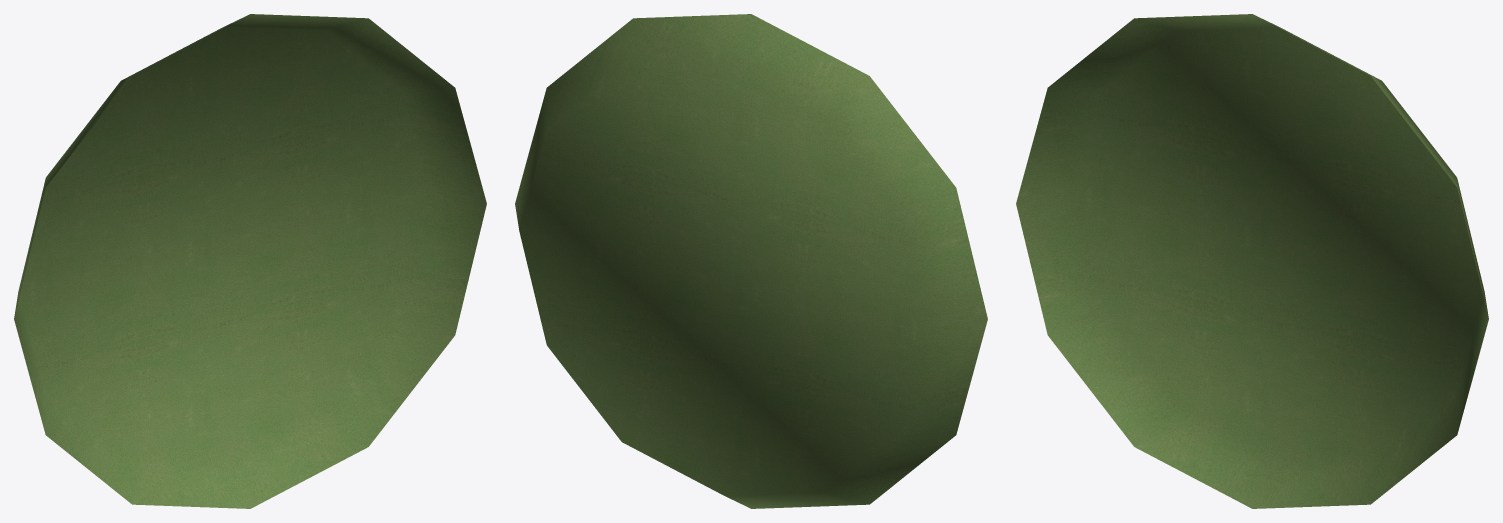
Rendered from land_for_light_grass.obj.
The picture shows the model from 3 angles, left to right: view 1: azimuth 30°, elevation 25°; view 2: azimuth 150°, elevation 25°; view 3: azimuth 330°, elevation 25°; orthographic projection.
Visible parts, largest first — view 1: 1_-_Default; view 2: 1_-_Default; view 3: 1_-_Default.
Part boxes in pixels (x1,y1,x2,y2): 1_-_Default: (14,14,486,508); 1_-_Default: (515,14,987,508); 1_-_Default: (1016,14,1488,508).
Size of the model in its own units: 200 by 200 by 20.
1 material, 1 textured.
